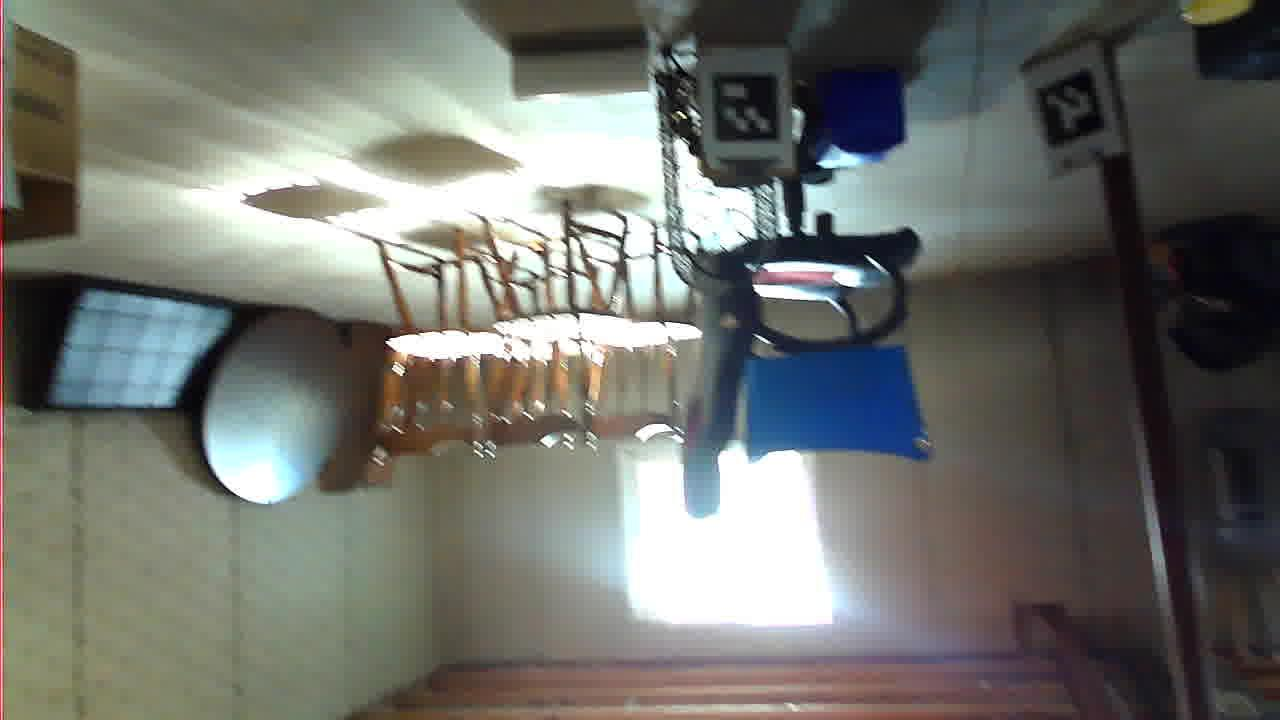coral: (630, 619, 771, 683)
